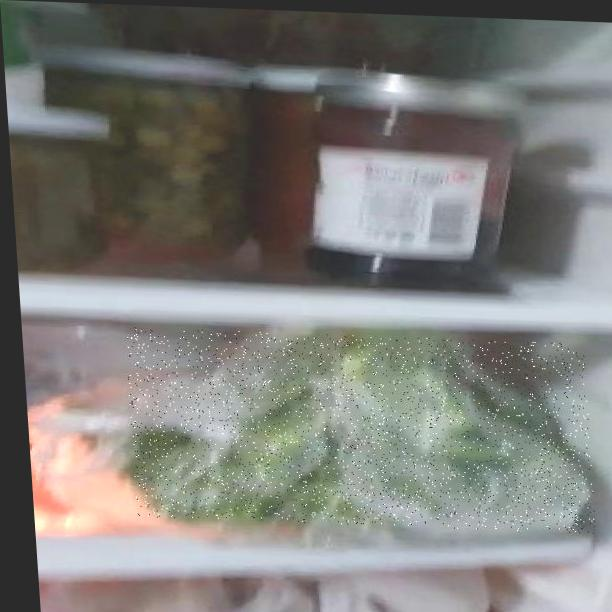lettuce: (125, 327, 596, 534)
